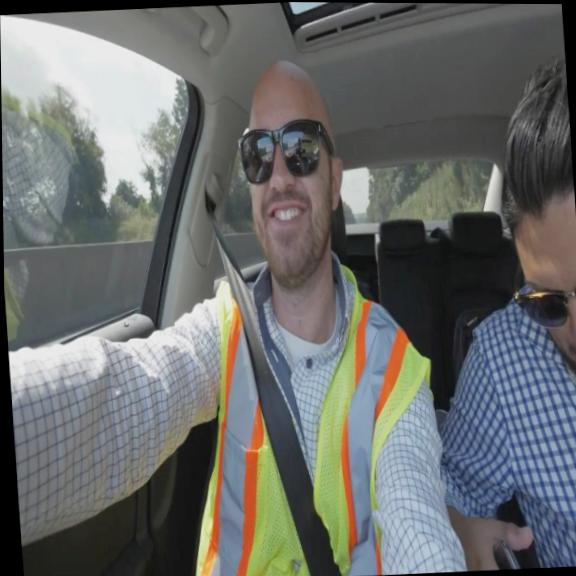safety_vest: (172, 257, 447, 576)
